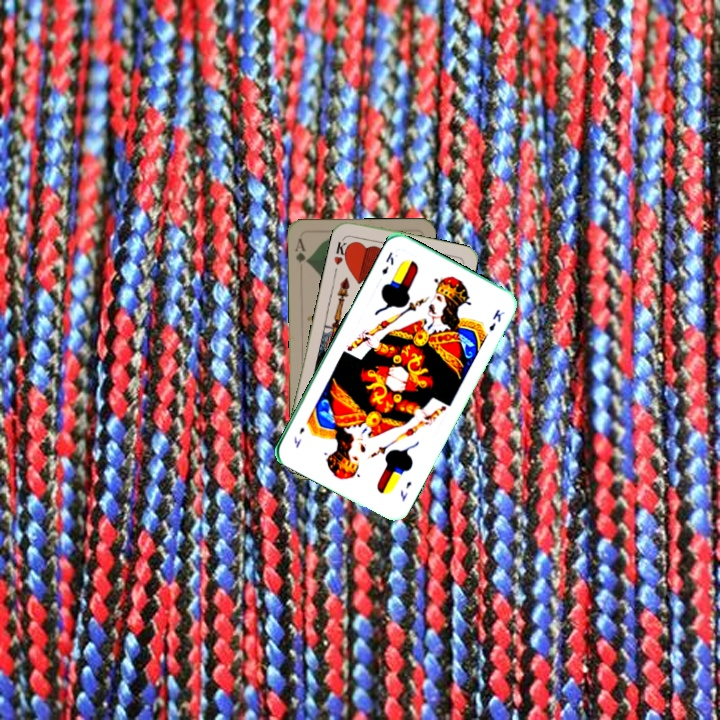EK: (378, 248, 397, 277), (396, 477, 414, 504)
GA: (291, 234, 311, 265)
HK: (330, 233, 353, 267)
